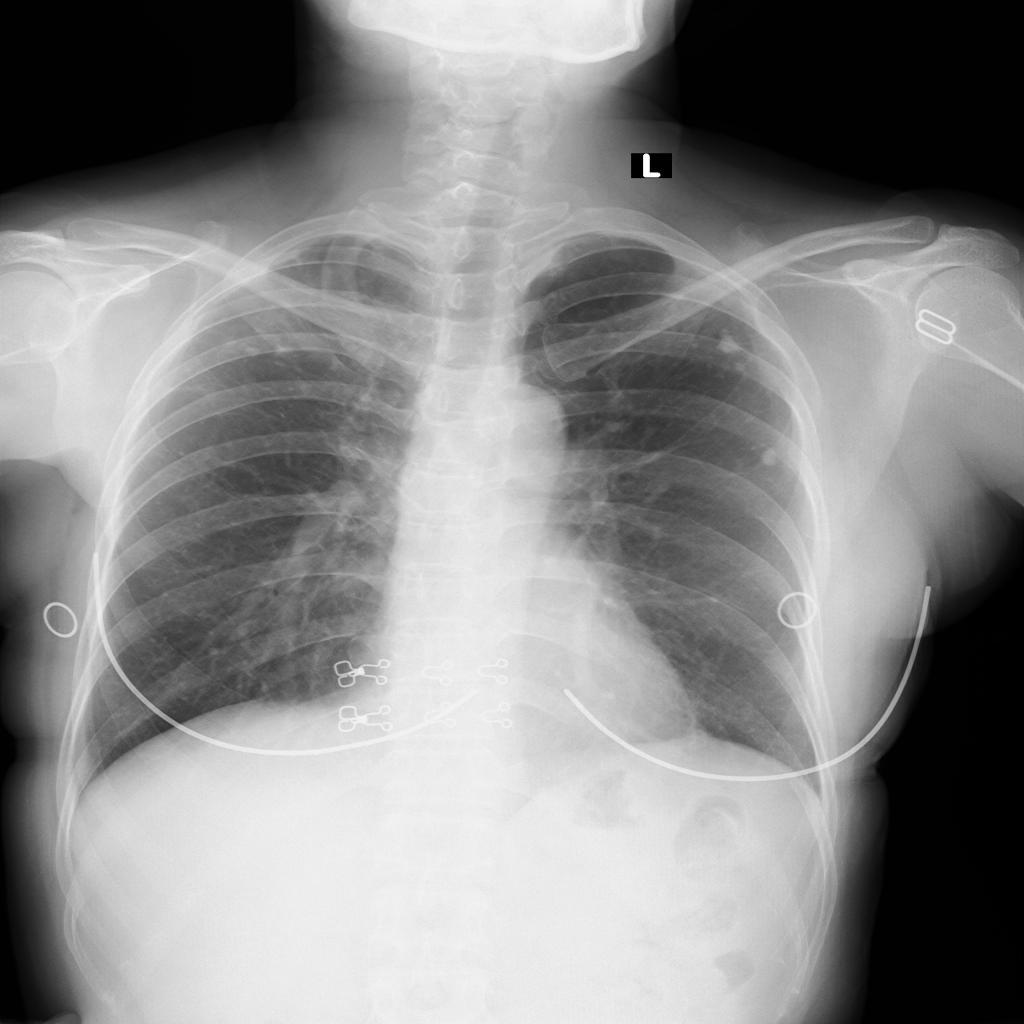Nodule: (713, 329, 737, 354), (760, 448, 779, 467), (273, 342, 295, 356), (243, 342, 261, 357), (736, 360, 747, 373)
